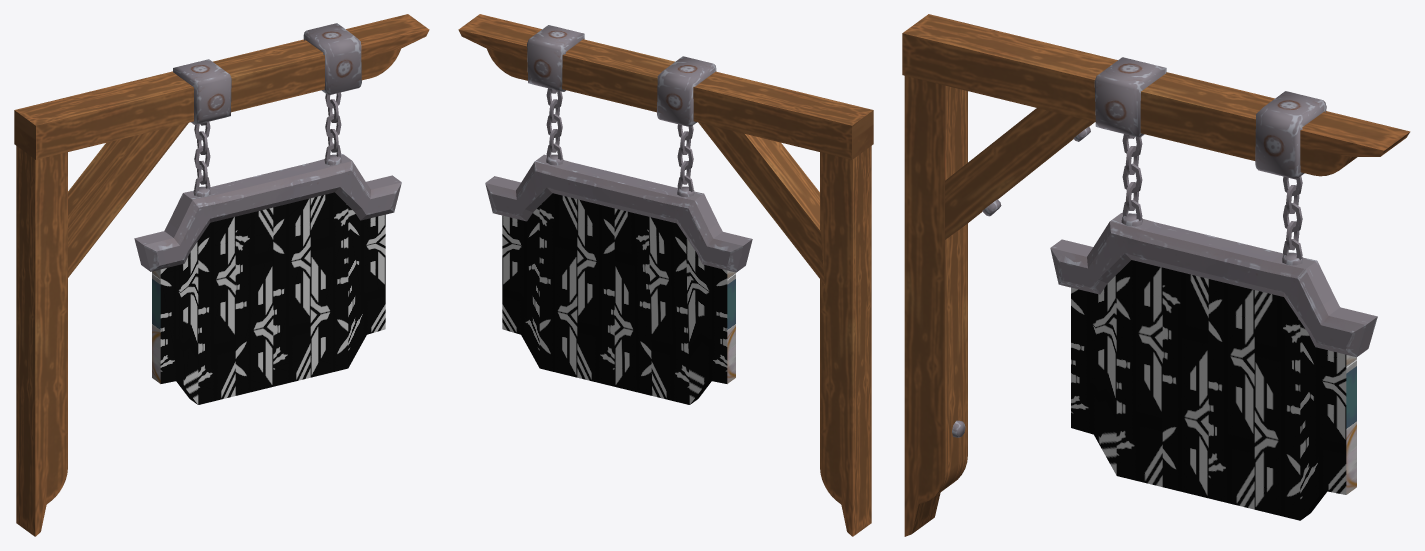
The model's file is Sign_Pub.fbx.
3 views of the same model, side by side, from view 1: azimuth 30°, elevation 25°; view 2: azimuth 150°, elevation 25°; view 3: azimuth 330°, elevation 25° (orthographic). The views are drawn at different scales.
Parts seen in each view (by area): view 1: Sign_Pub; view 2: Sign_Pub; view 3: Sign_Pub.
Part boxes in pixels (x1,y1,x2,y2): Sign_Pub: (14,14,429,536); Sign_Pub: (458,14,873,536); Sign_Pub: (902,14,1410,536).
Bounding box in the file's own units: 121 × 124 × 14.29.
